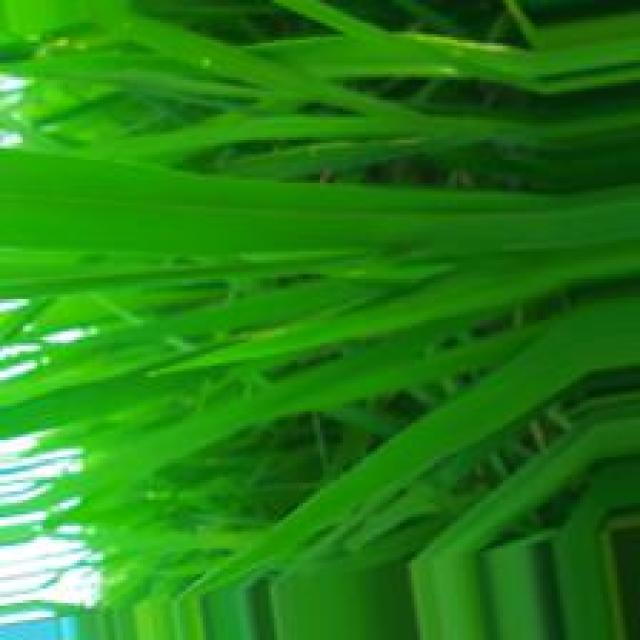HealthyLeaf: (0, 149, 479, 257), (245, 382, 502, 564)
